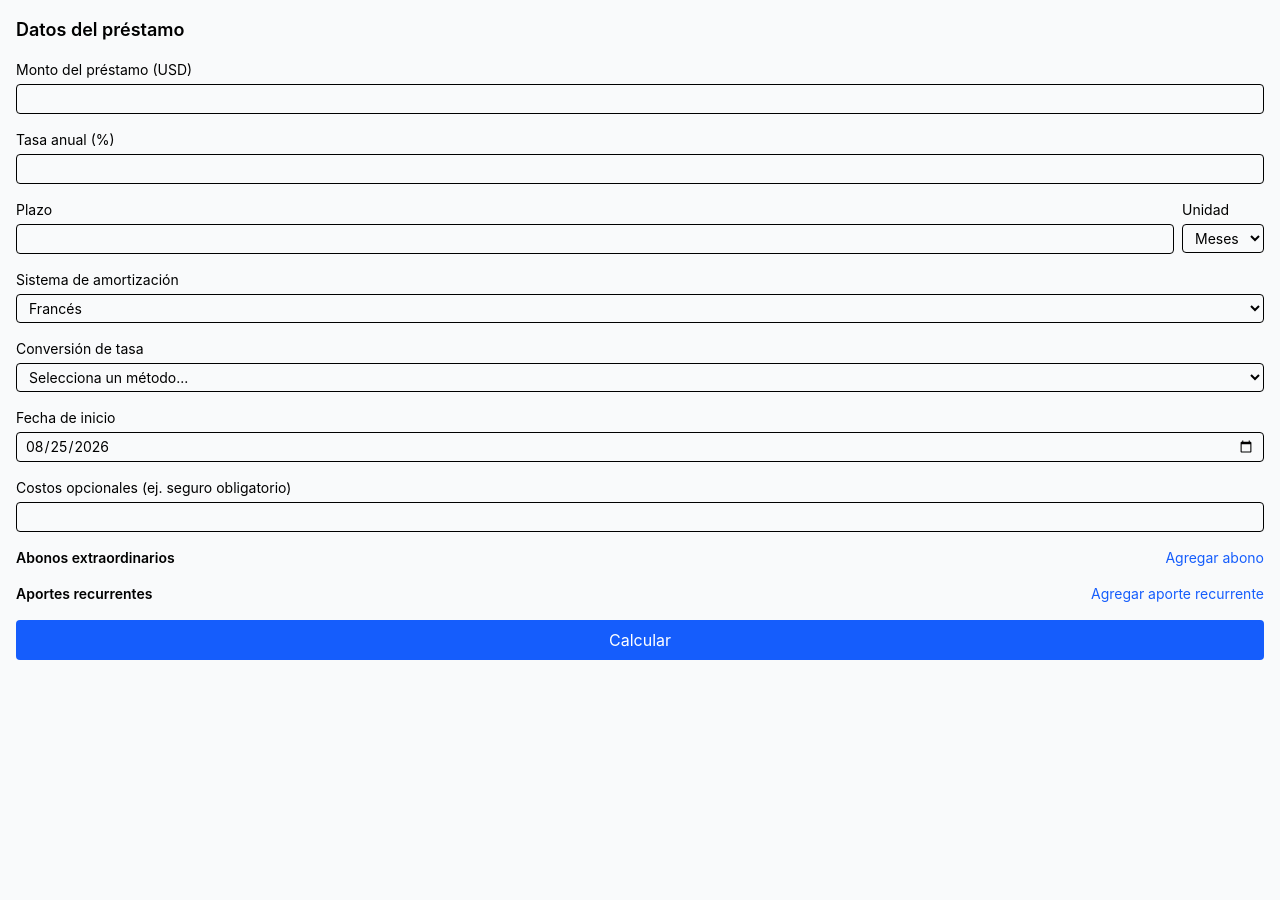
Test: LoanForm › debe mostrar un mensaje de error de dominio traducido cuando la validación falla
In the number field labelled "Monto del préstamo (USD)": (640, 99) [16,84,1264,114], type "0"
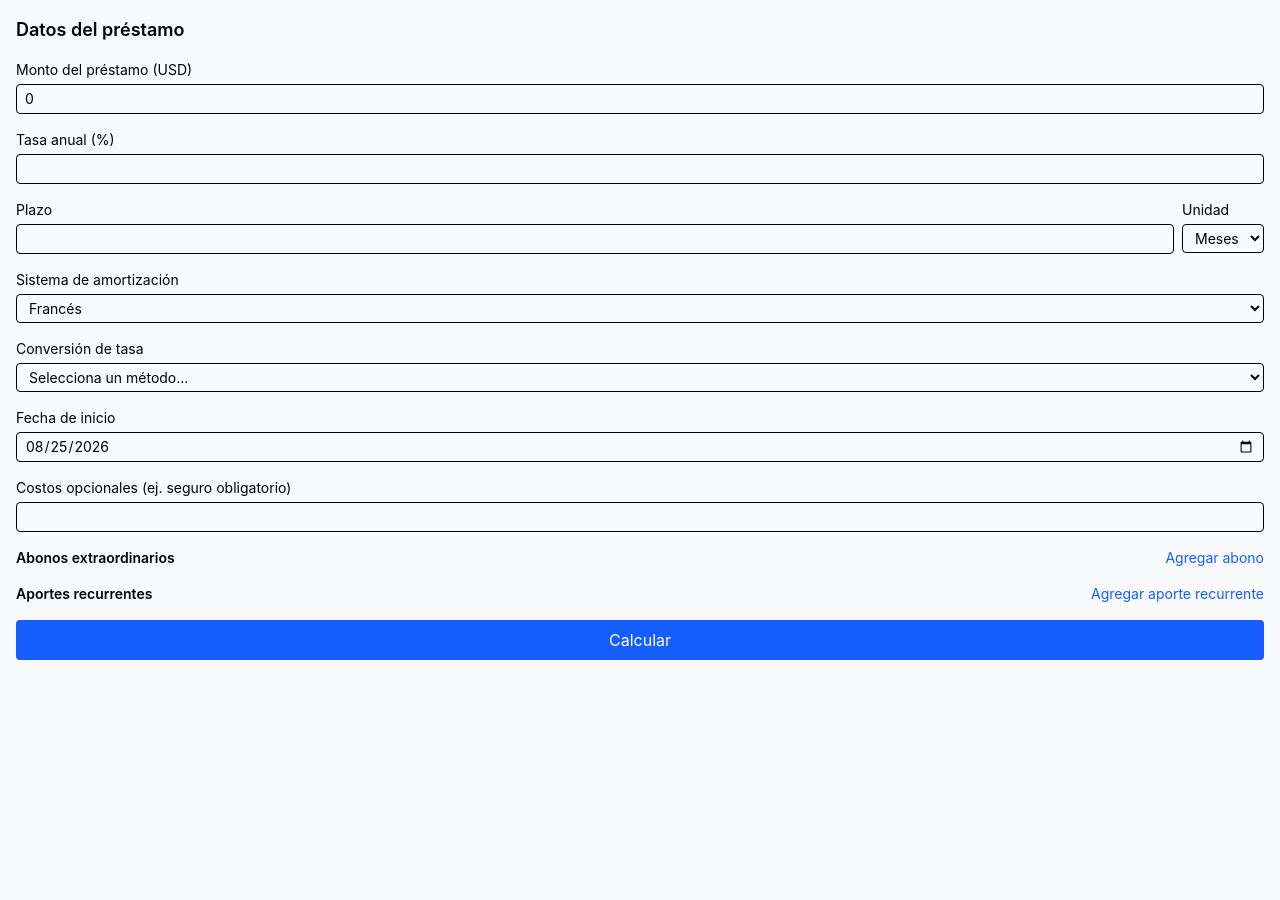
In the number field labelled "Tasa anual (%)": (640, 169) [16,154,1264,184], type "12"
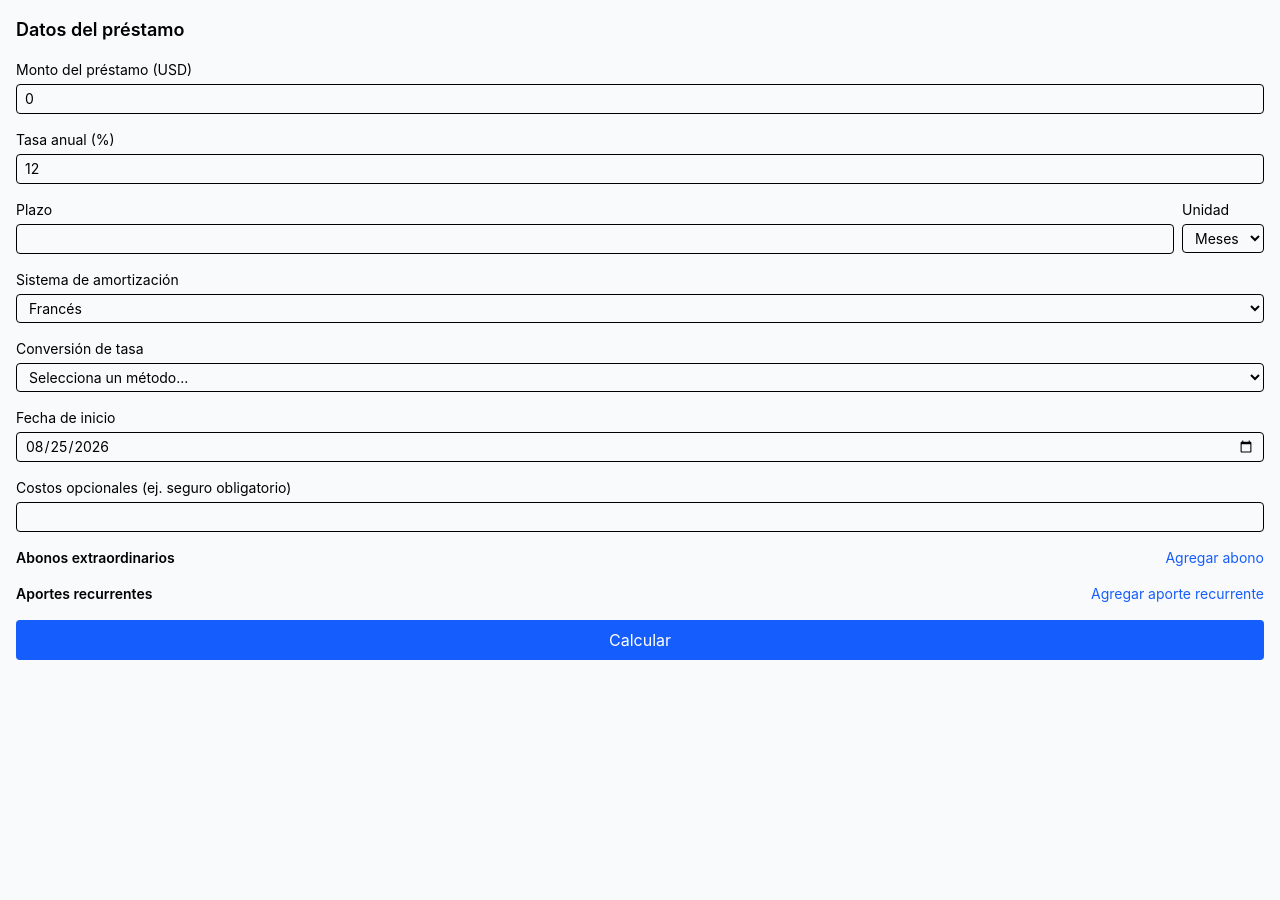
In the number field labelled "Plazo": (595, 239) [16,224,1174,254], type "12"
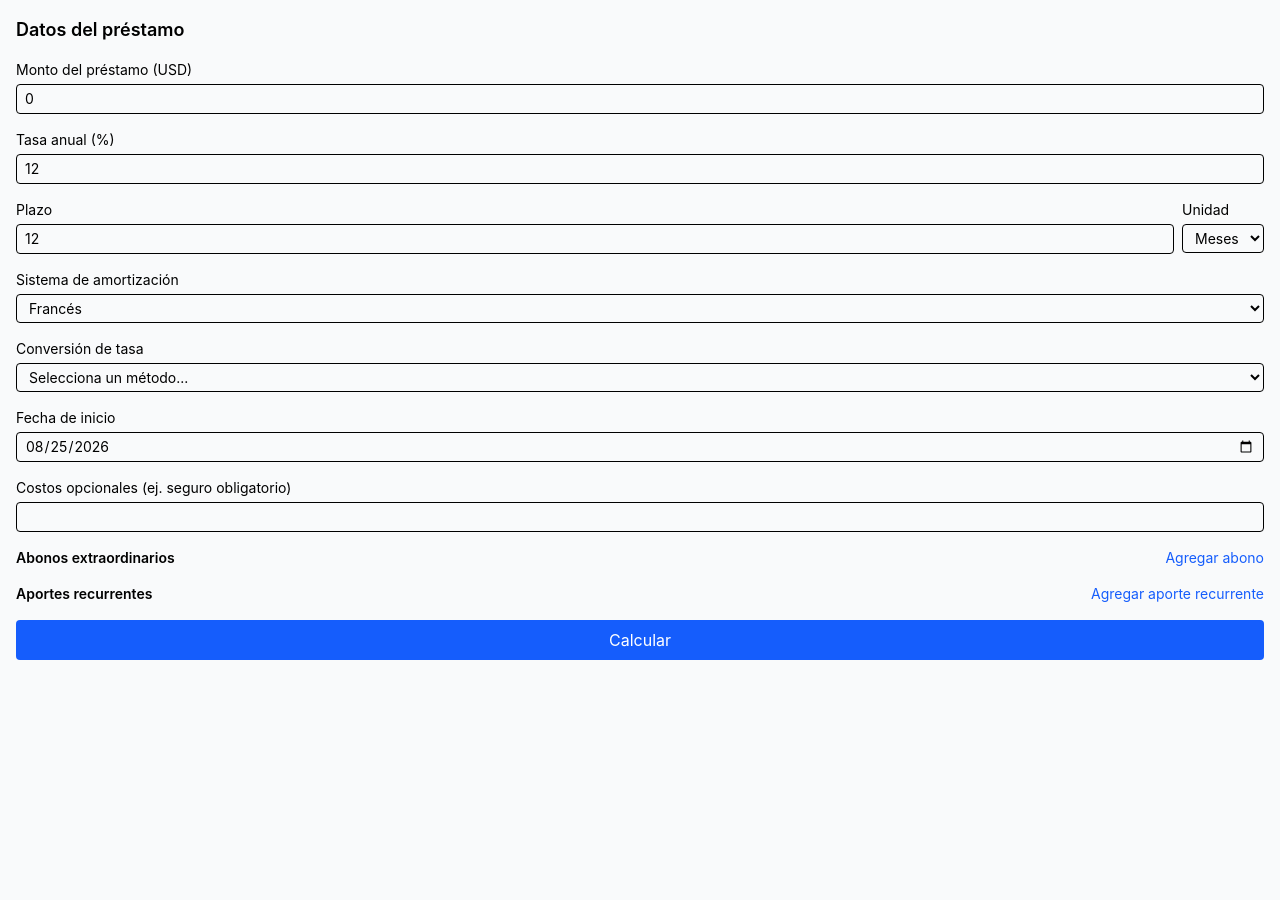
Select "Nominal (i/12)" in the dropdown labelled "Conversión de tasa": (640, 378) [16,363,1264,392]
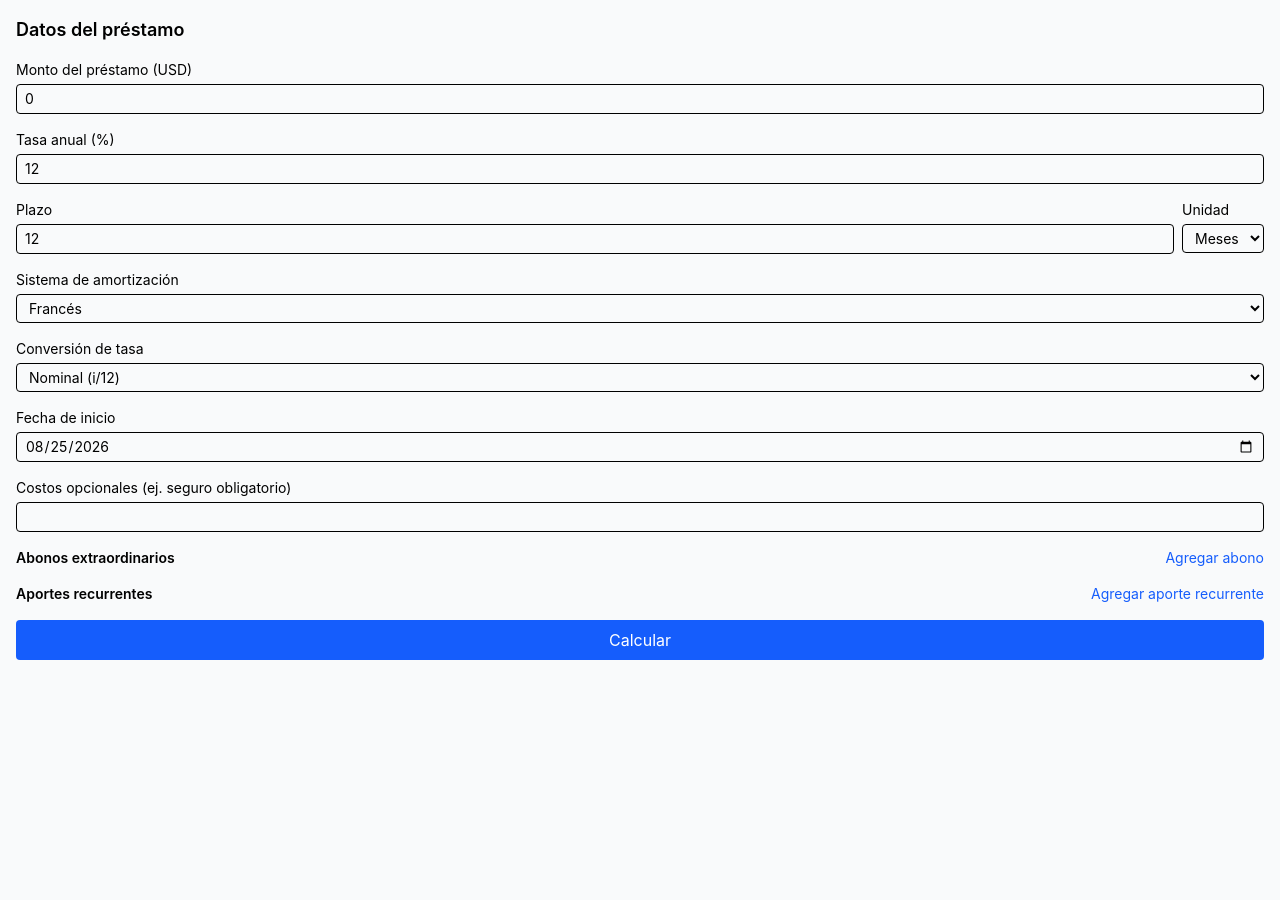
Click the button "Calcular": click(640, 640) [16,620,1264,660]
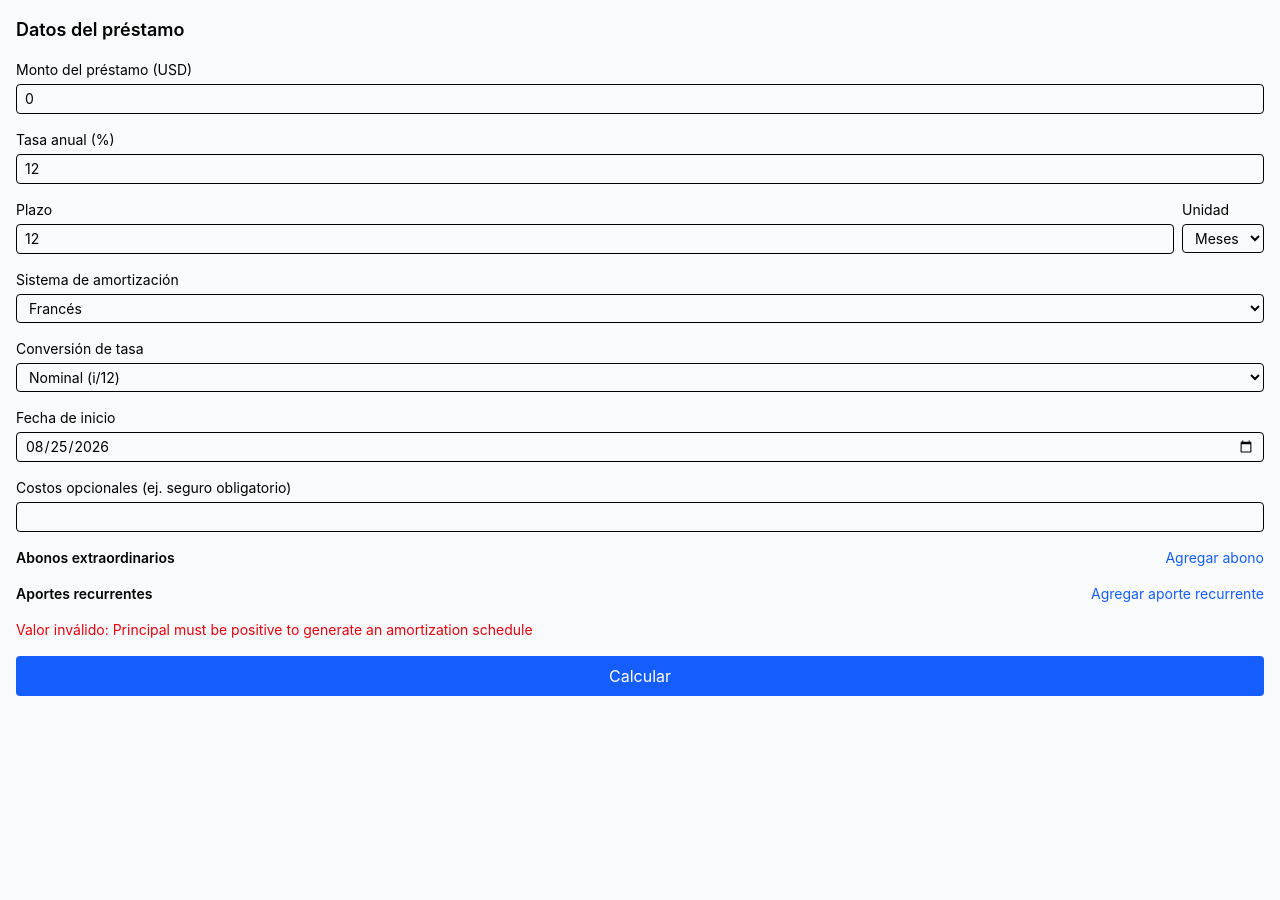
Check: the message is shown, box [16,621,533,638]
